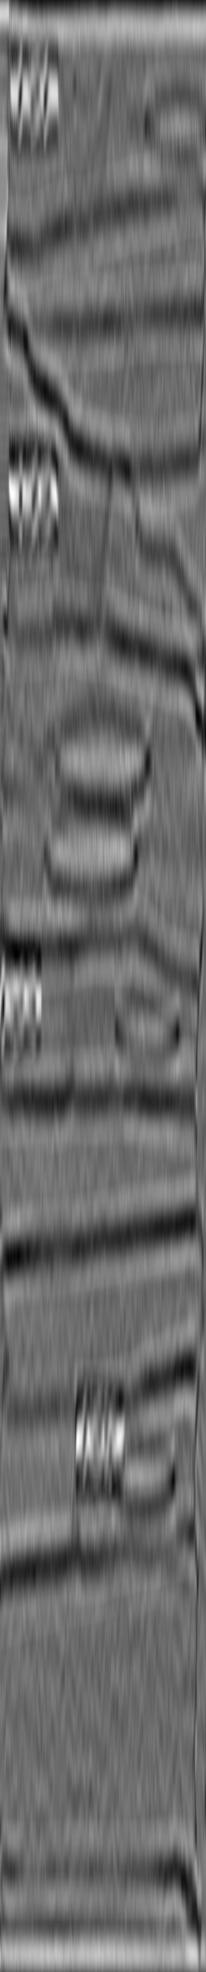hplug: (106, 1443, 183, 1517), (138, 86, 206, 160), (112, 996, 181, 1064)
scal: (51, 702, 160, 806), (40, 807, 147, 904)
vplug: (1, 1393, 87, 1572), (44, 457, 114, 628), (6, 950, 80, 1105), (51, 57, 116, 213)
